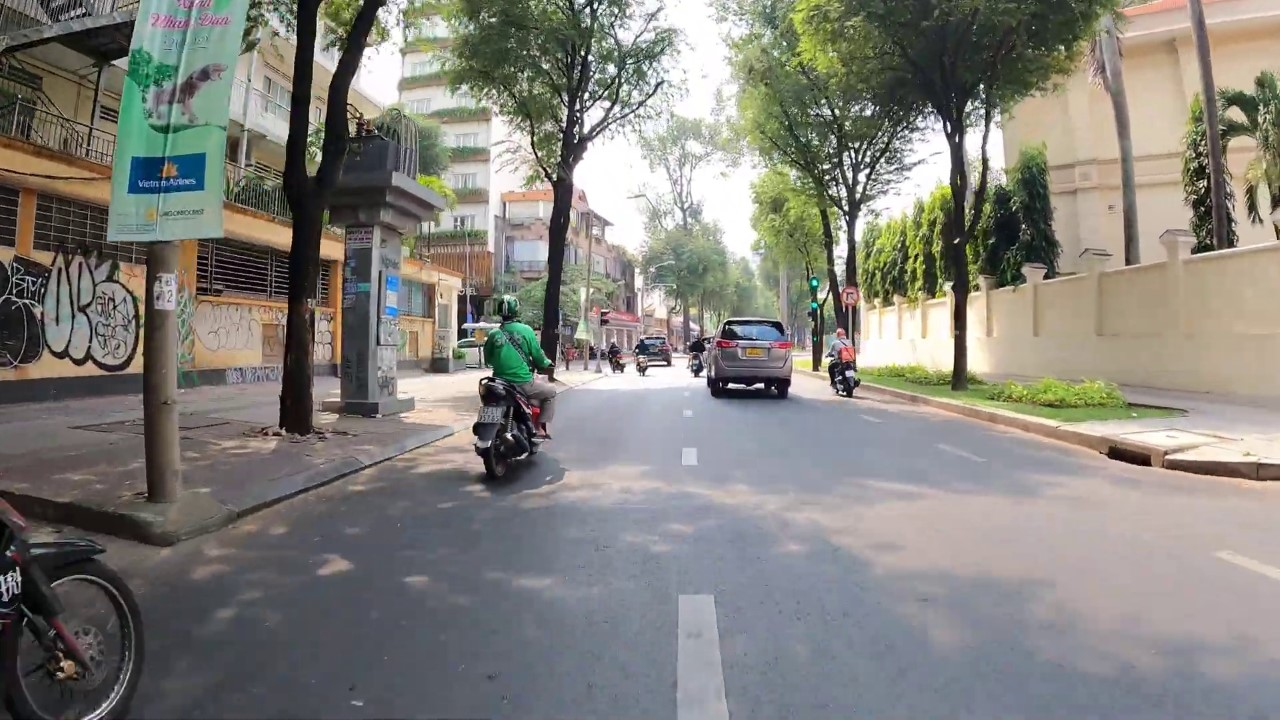cam_re_phai: (840, 285, 860, 307)
